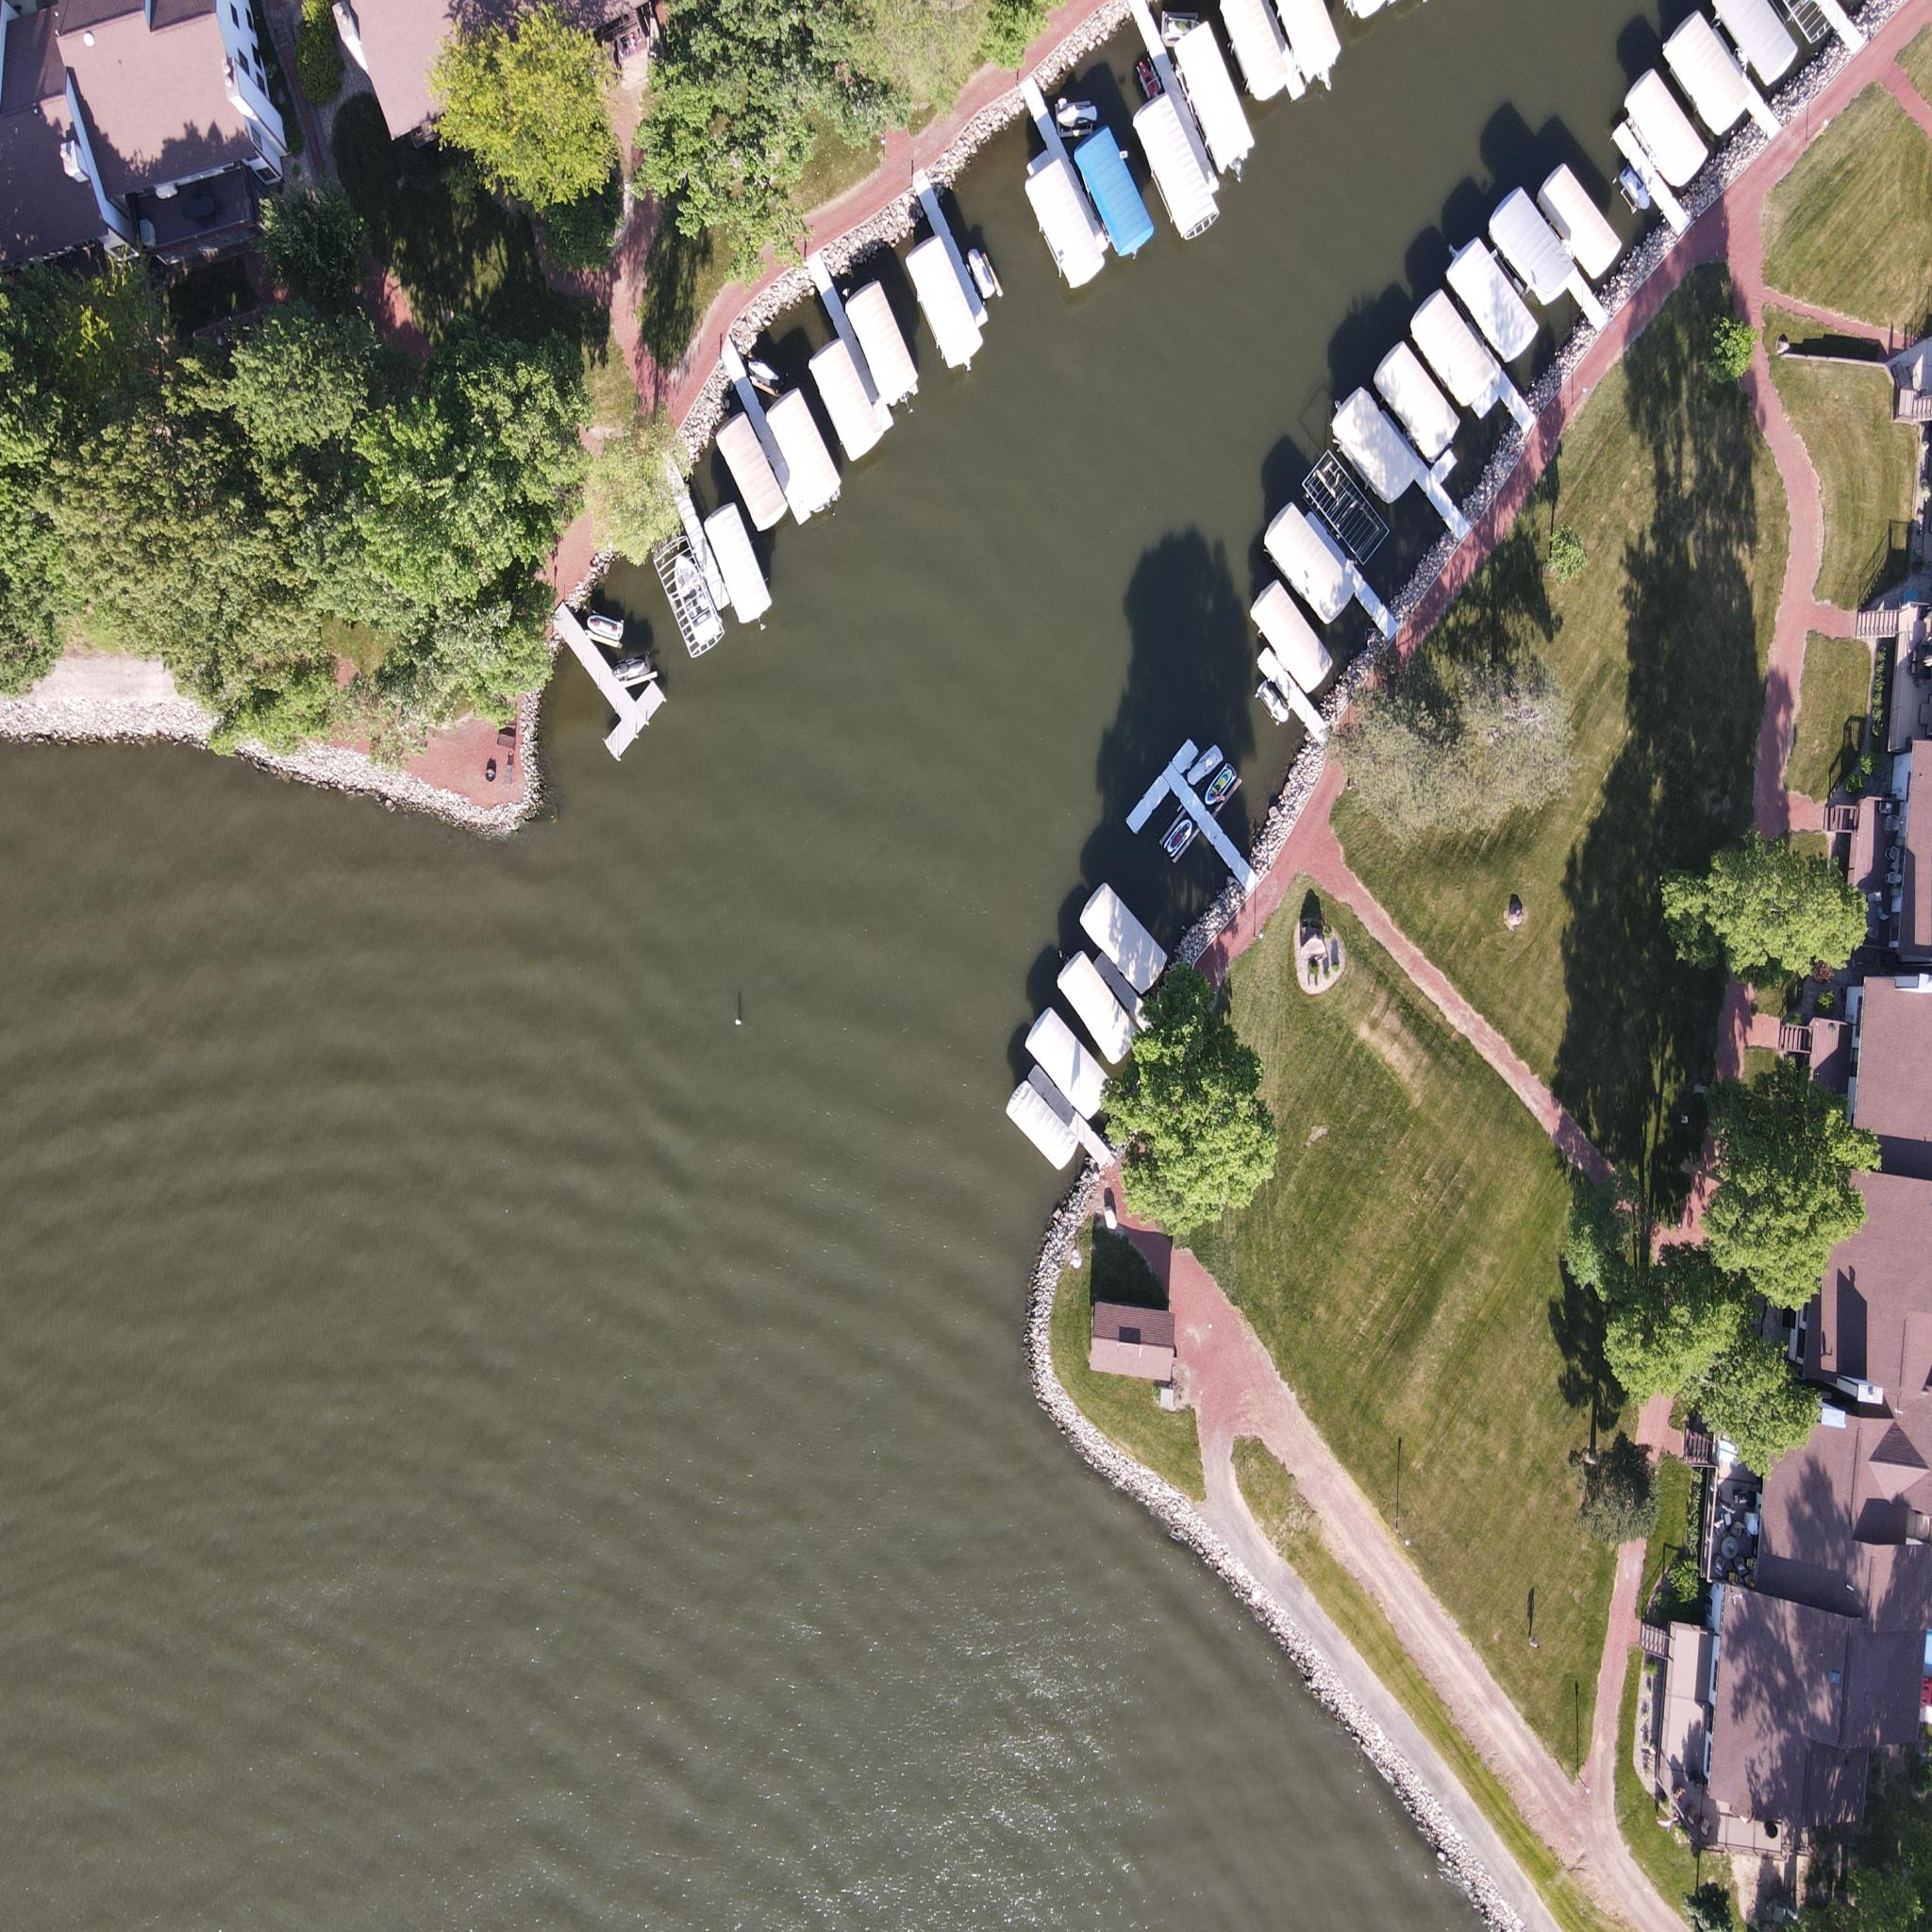boat: (671, 550, 725, 649)
dock: (1123, 734, 1270, 904), (1024, 64, 1120, 283), (550, 593, 667, 771), (803, 244, 897, 446), (1132, 9, 1224, 211), (908, 157, 996, 345), (715, 329, 796, 529), (1518, 193, 1614, 357), (1016, 1046, 1120, 1196), (1371, 407, 1474, 559), (1300, 506, 1403, 637), (1456, 292, 1539, 444), (1700, 0, 1783, 150), (663, 439, 731, 617), (1612, 119, 1698, 249), (1254, 635, 1341, 764), (1238, 0, 1306, 104), (1095, 961, 1162, 1062), (1803, 0, 1870, 64)
jetski: (1617, 156, 1660, 226), (1157, 801, 1203, 863), (1054, 97, 1100, 140), (584, 609, 630, 648), (1185, 740, 1224, 786), (745, 356, 793, 393), (970, 248, 1003, 299), (1136, 58, 1169, 104), (1207, 763, 1240, 809), (1254, 681, 1288, 725), (614, 658, 662, 686)
lift: (1254, 487, 1353, 625), (1076, 863, 1175, 996), (1440, 232, 1536, 361), (1175, 21, 1249, 180), (1141, 90, 1215, 246), (1074, 117, 1152, 262), (1026, 1003, 1120, 1122), (1663, 14, 1755, 129), (904, 239, 984, 372), (766, 389, 847, 518), (1028, 159, 1104, 297), (1407, 290, 1497, 403), (1622, 69, 1711, 182), (1054, 950, 1141, 1063), (1378, 345, 1461, 462), (1490, 182, 1573, 297), (1537, 163, 1617, 281), (847, 285, 922, 410), (807, 338, 876, 471), (1332, 387, 1415, 495), (1251, 584, 1338, 685), (706, 499, 773, 626), (651, 538, 722, 656), (1313, 456, 1389, 566), (1713, 0, 1803, 90), (717, 412, 786, 527), (1000, 1077, 1077, 1175), (1224, 0, 1290, 104), (1277, 0, 1341, 76)
